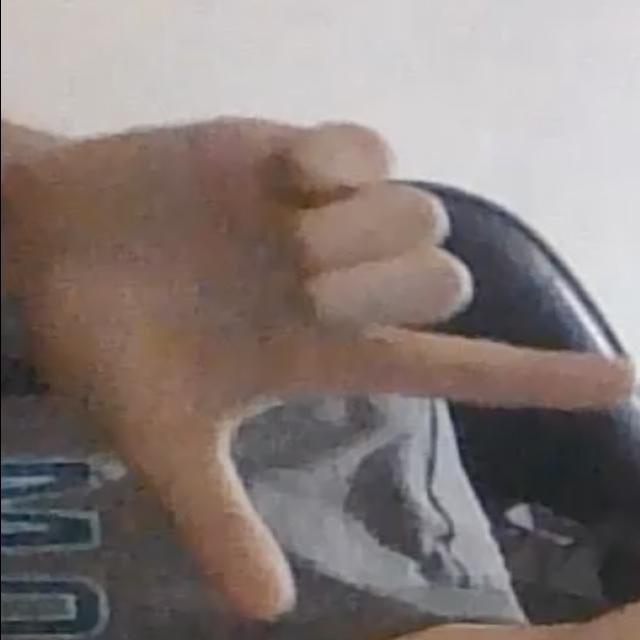LL: (14, 112, 630, 624)
